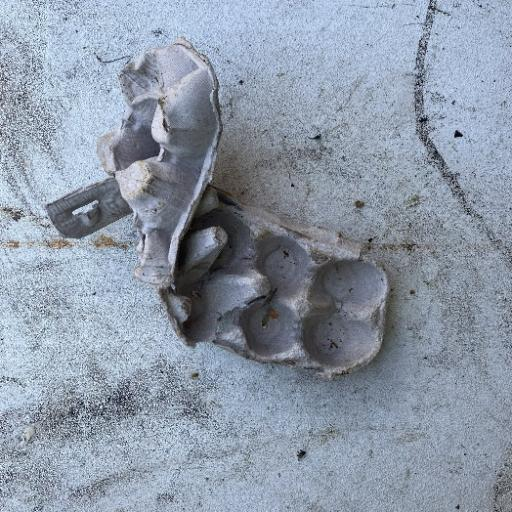Cardboard: (167, 193, 391, 379), (94, 36, 224, 288)
